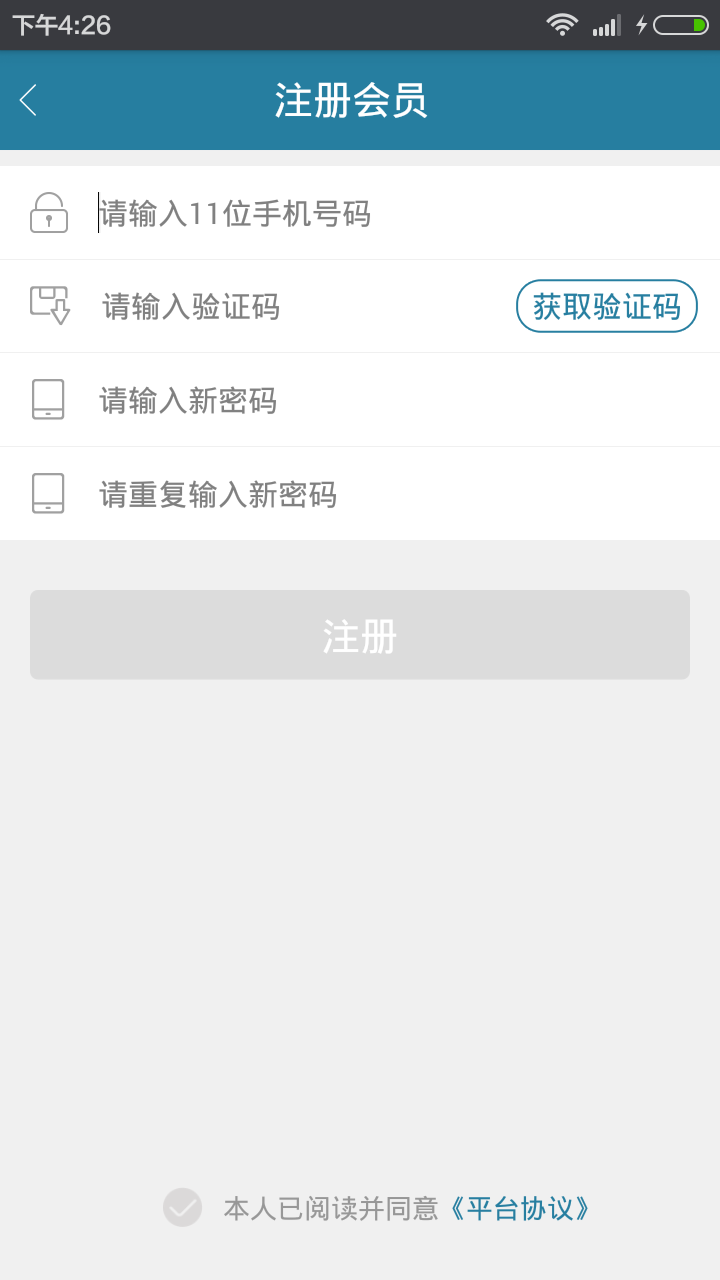button: (506, 268, 706, 342)
checkbox: (150, 1177, 605, 1241)
textview: (4, 161, 720, 550)
